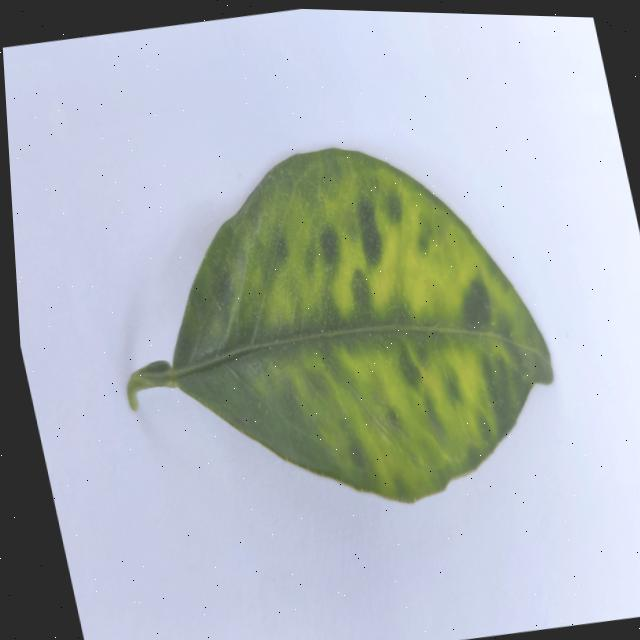greening: (128, 149, 552, 501)
